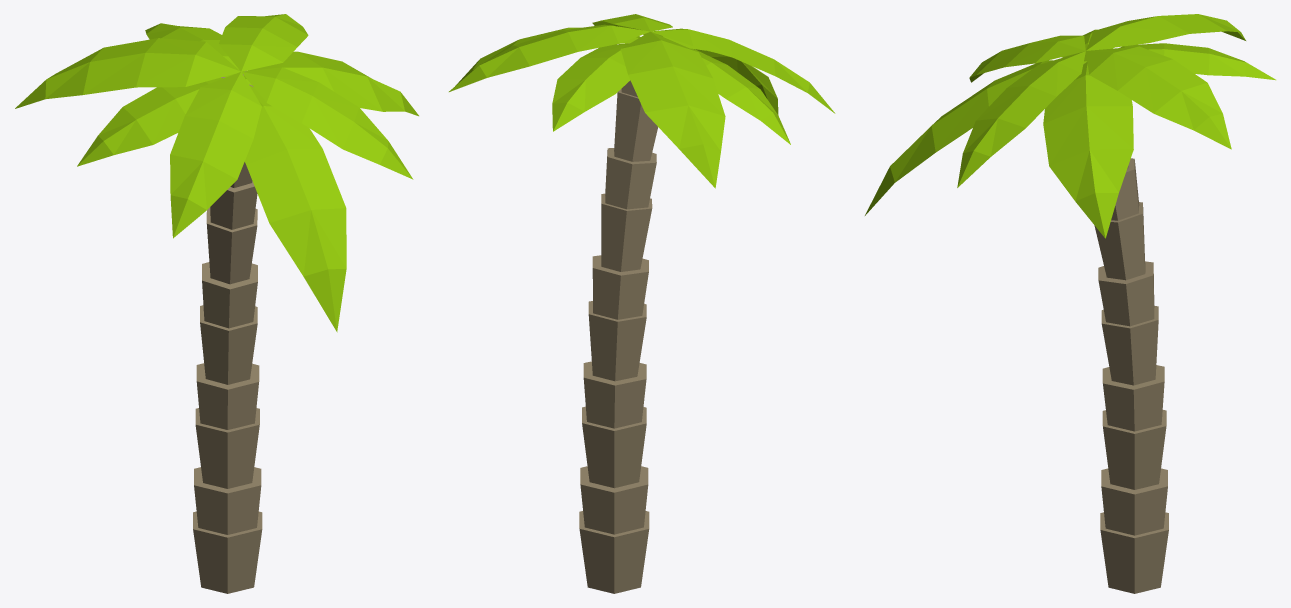
File: palm4.fbx
3 views of the same model, side by side, from view 1: azimuth 30°, elevation 25°; view 2: azimuth 150°, elevation 25°; view 3: azimuth 270°, elevation 25° (orthographic).
Visible parts, largest first — view 1: palm4; view 2: palm4; view 3: palm4.
Boxes of the visible parts, <box> form: palm4: <box>15,14,418,593</box>; palm4: <box>449,14,835,593</box>; palm4: <box>865,14,1275,593</box>.
Bounding box in the file's own units: 138 × 210 × 146.
